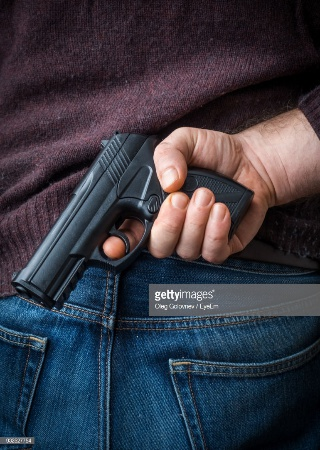handgun: (8, 129, 255, 310)
